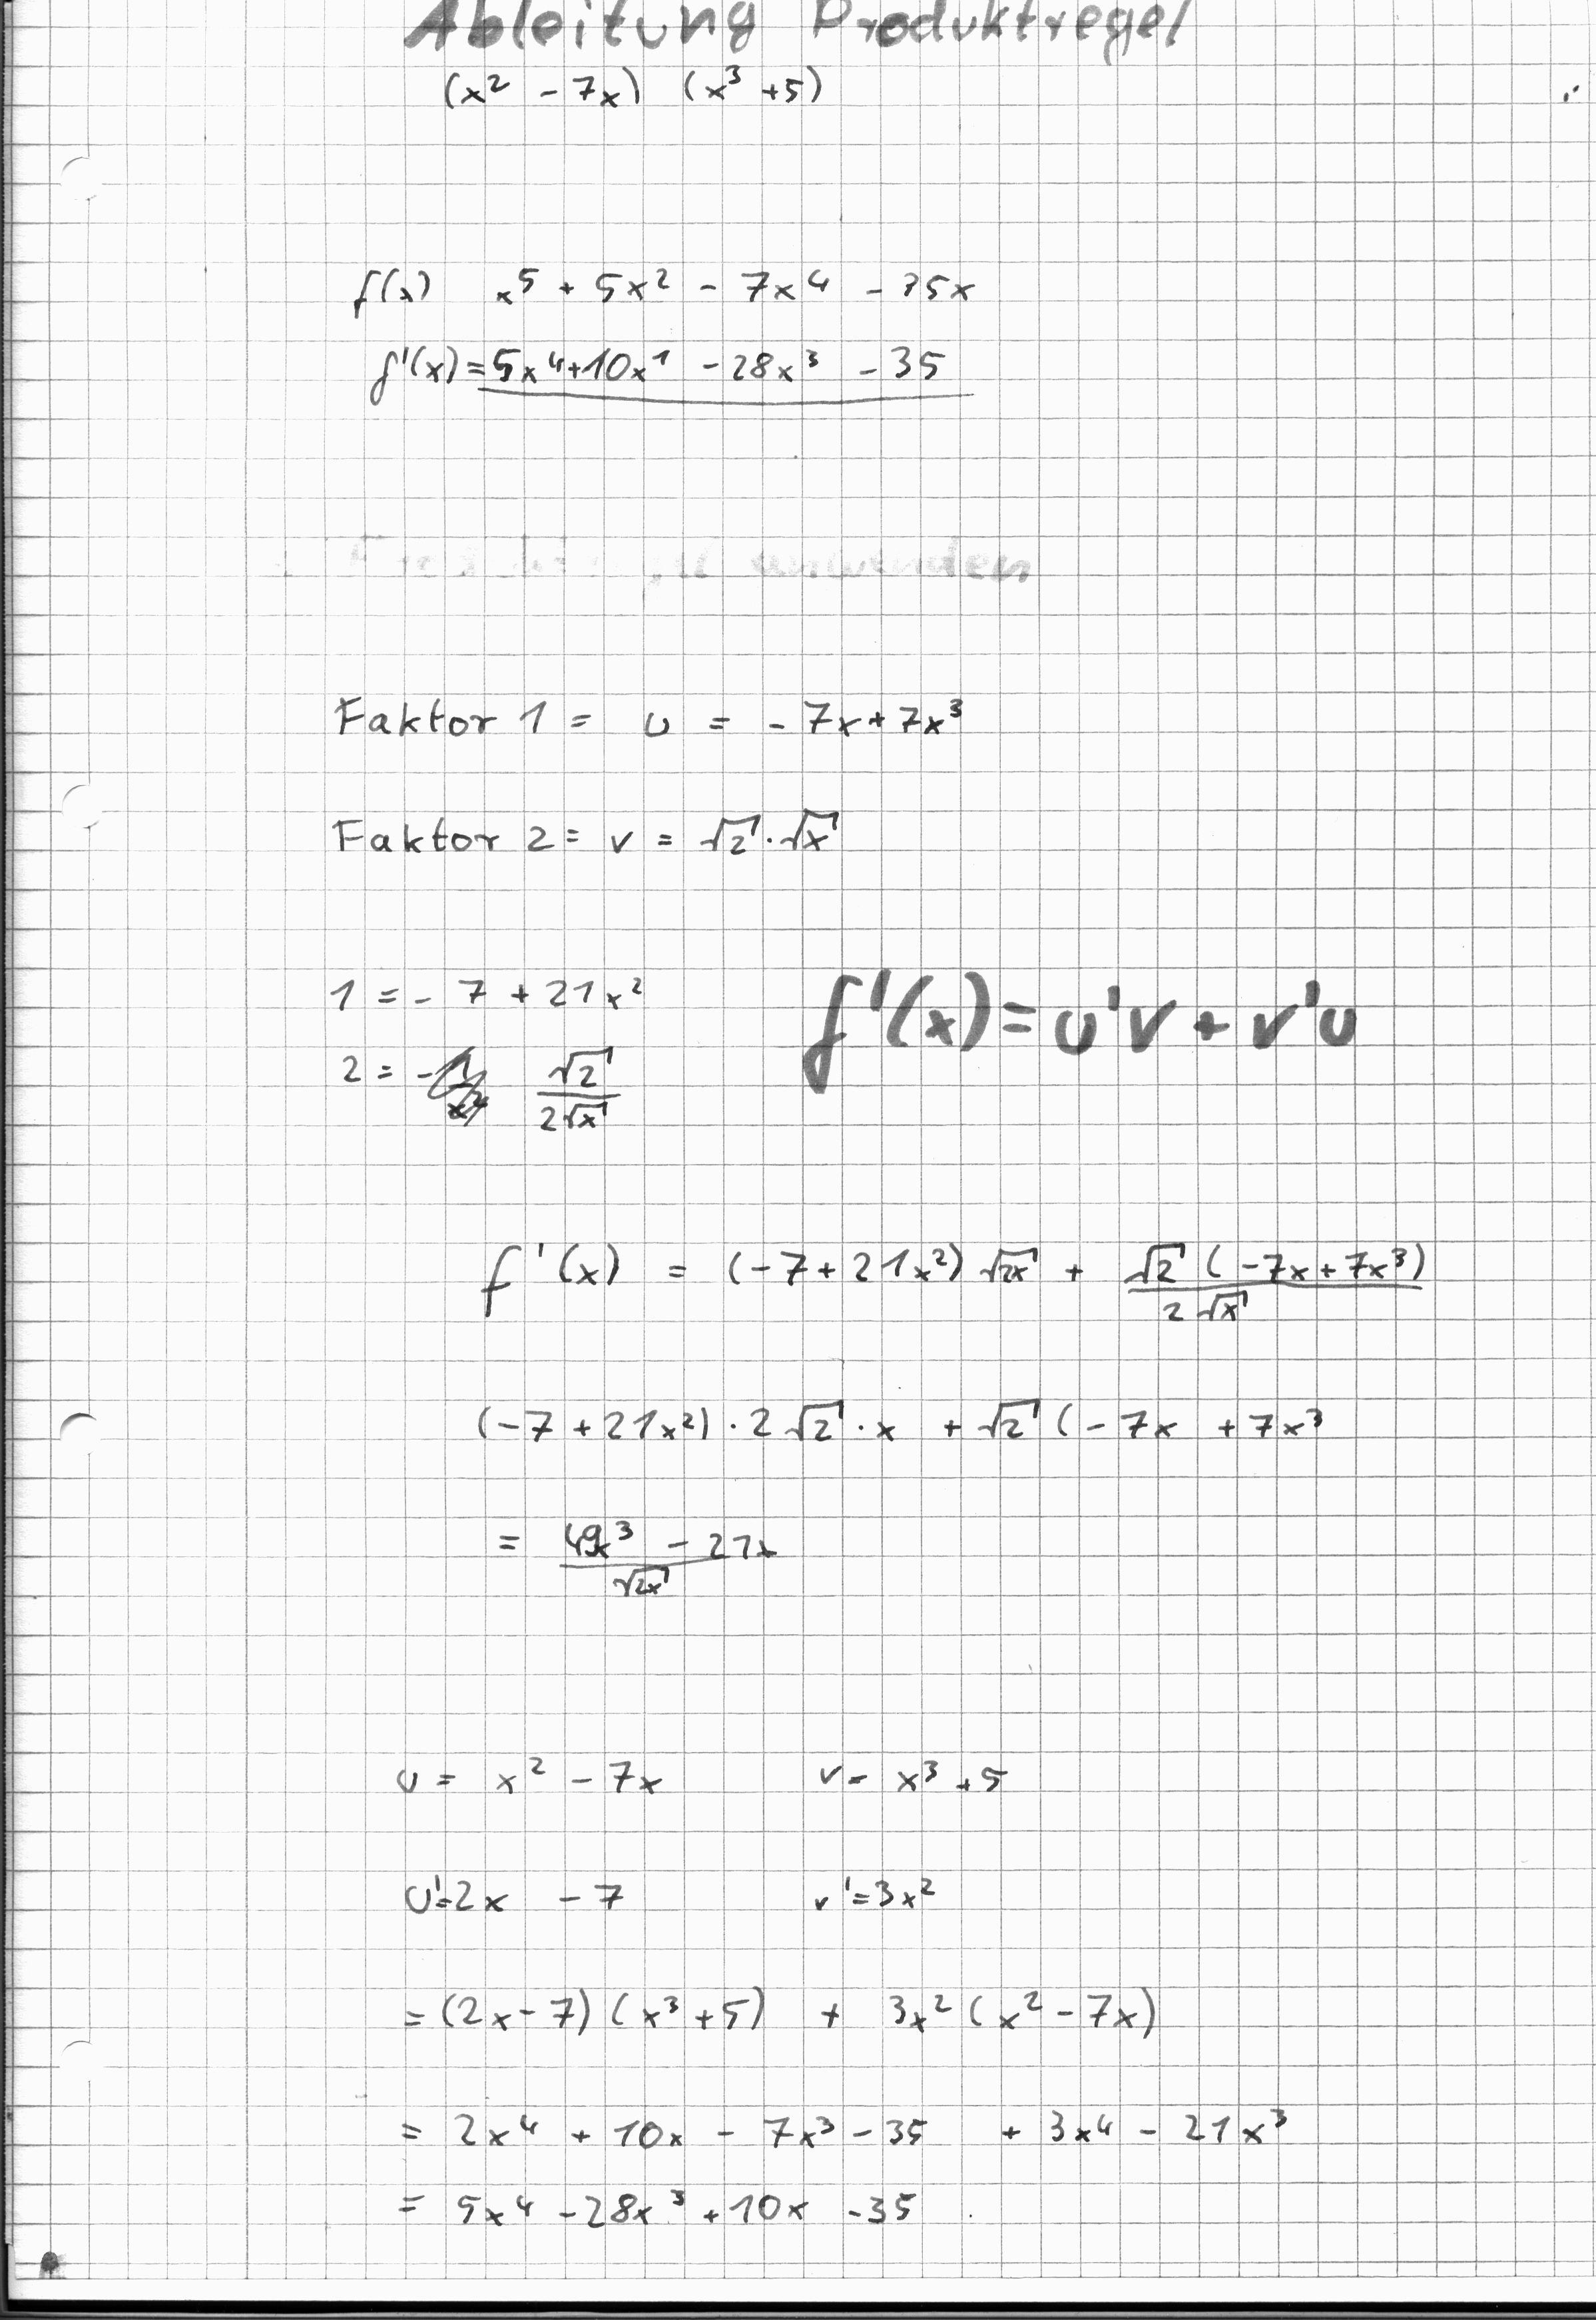word: (459, 1205, 1454, 1347), (336, 236, 1006, 429), (455, 1367, 1365, 1482), (387, 2091, 951, 2253), (384, 1958, 1193, 2072), (315, 663, 989, 765), (315, 950, 655, 1150), (304, 776, 872, 894), (451, 1490, 808, 1623), (416, 41, 852, 141), (351, 1711, 690, 1829), (981, 2080, 1300, 2172), (387, 1837, 656, 1943), (796, 1717, 1028, 1813), (784, 1841, 962, 1943)
